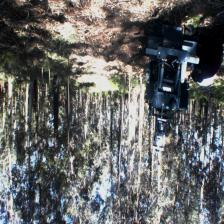trunktrack_idkeyframe: (53, 75, 59, 126)
